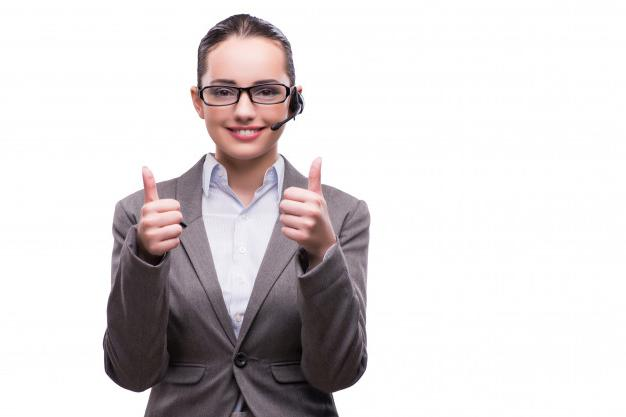thumbsup: (140, 165, 182, 254), (279, 156, 323, 240)
